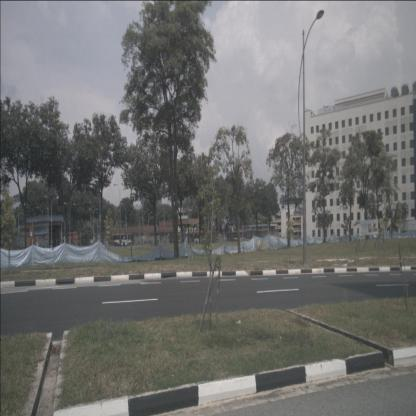vehicle-bus-rigid: (109, 233, 133, 246)
